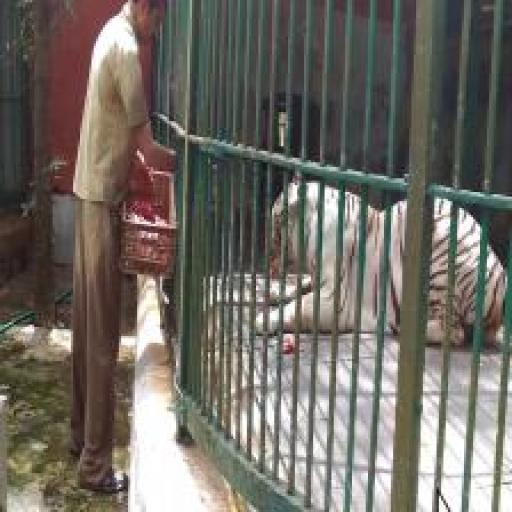Tiger: (253, 169, 512, 348)
